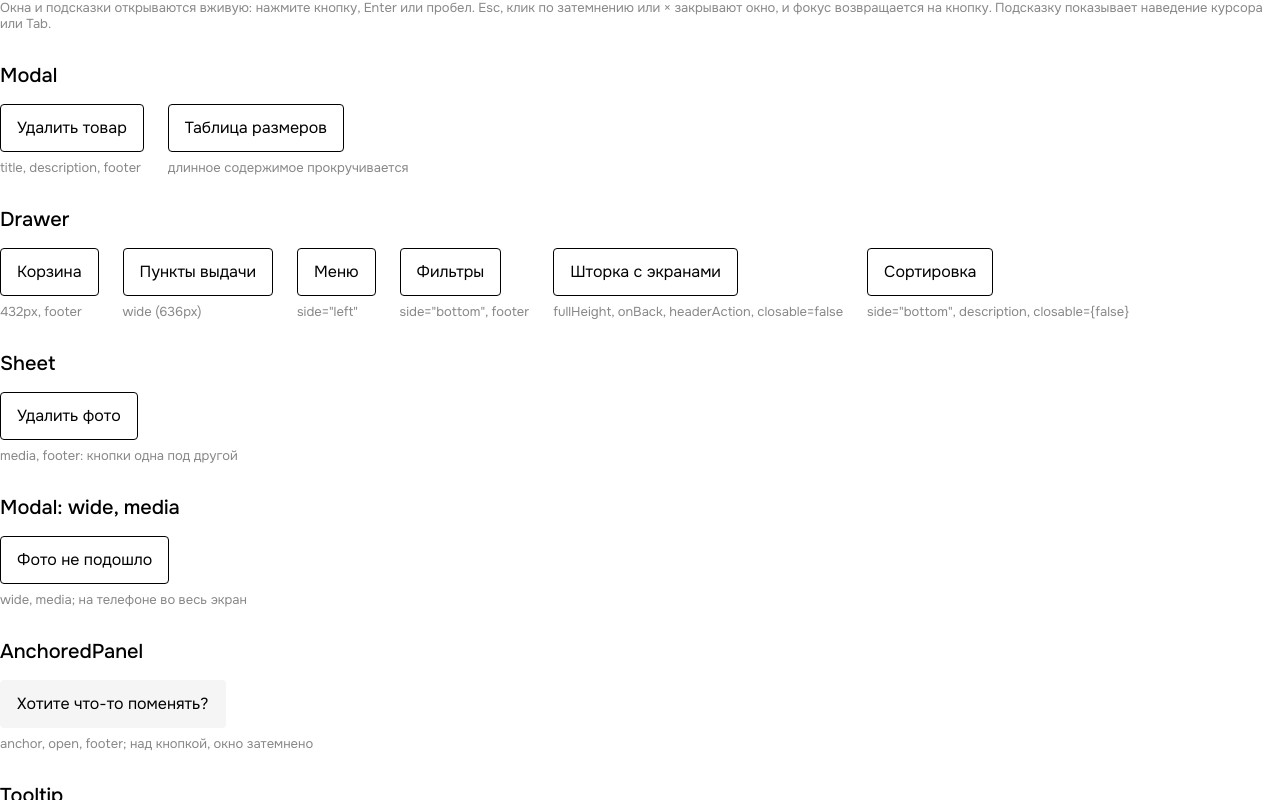
Test case: OverlaysSection › opens the cart drawer
What coordinates should you click on to do the following:
click the button "Корзина"
I would click on:
 (49, 272)
Its box is left=0, top=248, right=98, bottom=296.
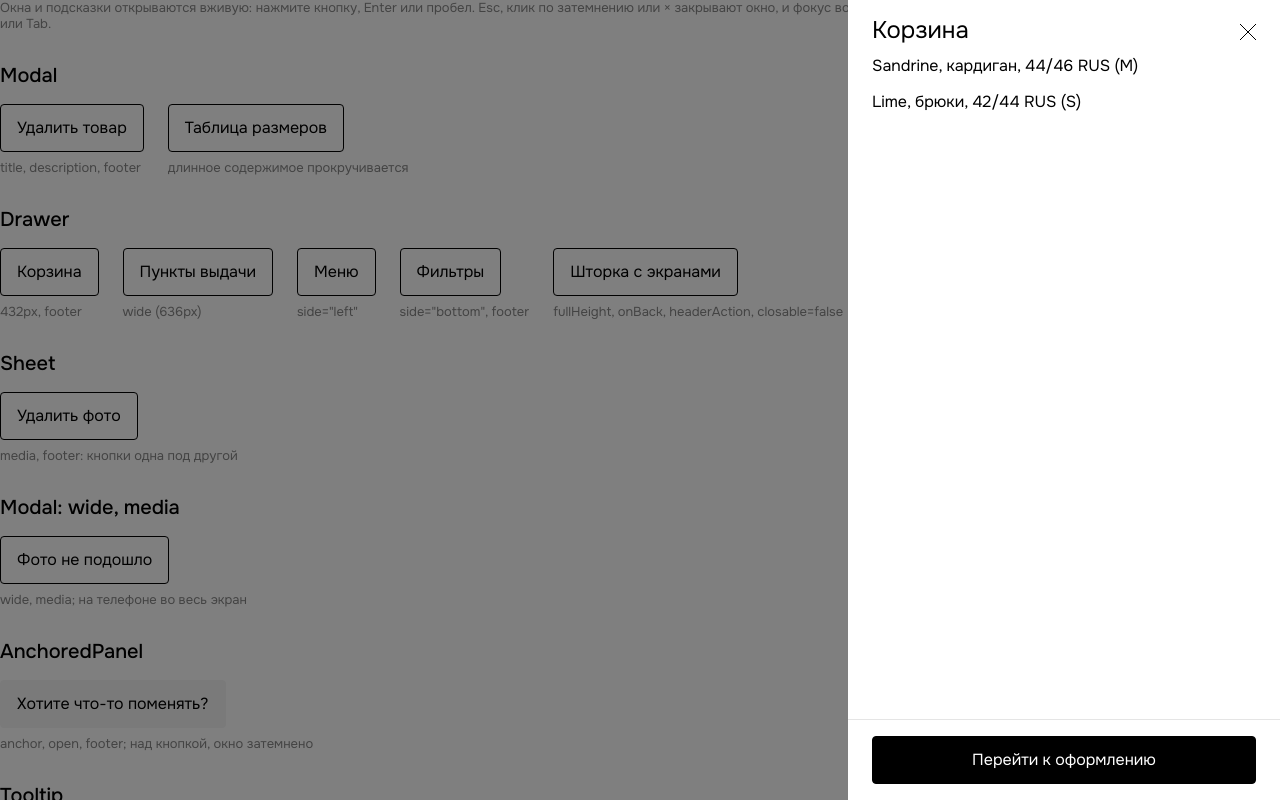
Check: the dialog "Корзина" is shown, box left=848, top=0, right=1279, bottom=799
